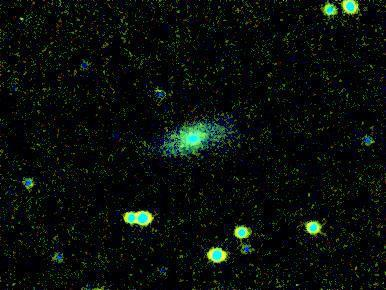star: (286, 179, 316, 209)
